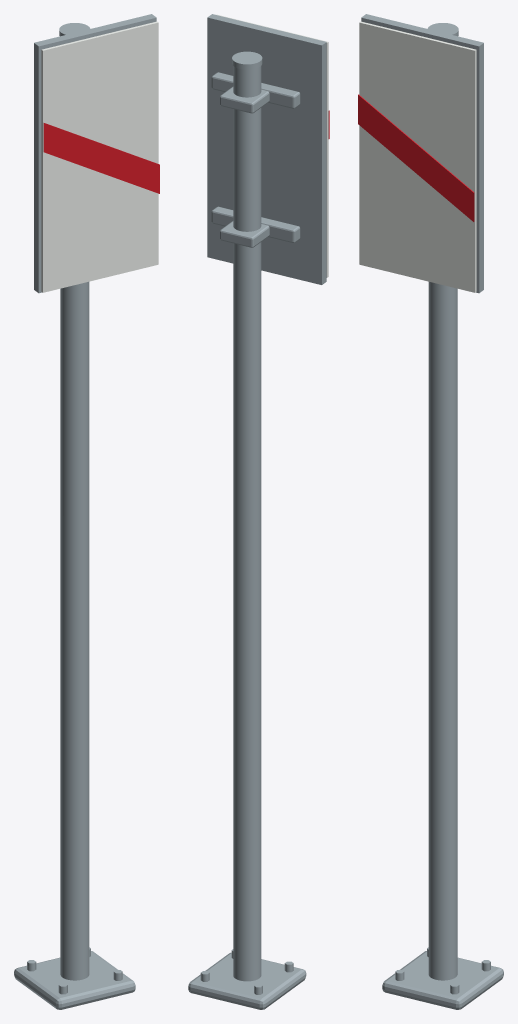
Rendered from DS_Sign_RailwayDist1_L.fbx.
3 views of the same model, side by side, from view 1: azimuth 30°, elevation 25°; view 2: azimuth 150°, elevation 25°; view 3: azimuth 330°, elevation 25° (orthographic). The views are drawn at different scales.
Visible parts, largest first — view 1: Face_Field.007, Post.009, BasePlate.009, Stripe_0.005, Plate_Back.012; view 2: Post.009, Plate_Back.012, BasePlate.009, RearRail.020, RearRail.019, Face_Field.007, PostClamp.020, PostClamp.019, PostCap.009; view 3: Face_Field.007, Post.009, Stripe_0.005, BasePlate.009, Plate_Back.012.
Part boxes in pixels (x1,y1,x2,y2): Face_Field.007: [41, 21, 158, 292]; Post.009: [60, 281, 89, 980]; BasePlate.009: [14, 951, 135, 1009]; Stripe_0.005: [43, 123, 159, 193]; Plate_Back.012: [34, 14, 156, 293]; Post.009: [233, 66, 261, 981]; Plate_Back.012: [207, 14, 326, 284]; BasePlate.009: [188, 952, 306, 1009]; RearRail.020: [211, 72, 300, 108]; RearRail.019: [211, 206, 300, 242]; Face_Field.007: [216, 14, 328, 277]; PostClamp.020: [220, 86, 269, 113]; PostClamp.019: [220, 221, 269, 247]; PostCap.009: [232, 51, 262, 69]; Face_Field.007: [359, 21, 476, 292]; Post.009: [428, 281, 457, 980]; Stripe_0.005: [358, 94, 474, 221]; BasePlate.009: [382, 951, 503, 1009]; Plate_Back.012: [361, 14, 483, 293].
Bounding box in the file's own units: 35.7 × 281 × 26.2.
